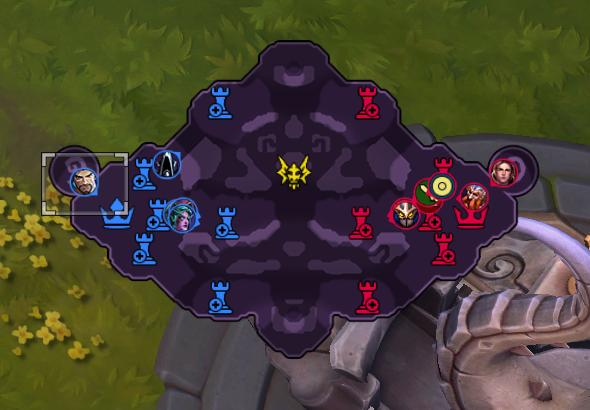blue nexus: (98, 196, 135, 228)
blue player: (165, 197, 199, 232), (152, 149, 181, 179), (69, 167, 98, 196)
blue tower: (207, 84, 233, 119), (213, 204, 239, 239), (131, 231, 157, 265), (131, 156, 157, 190), (207, 279, 232, 313), (145, 197, 170, 231), (148, 198, 167, 209), (218, 205, 236, 216)
red player: (413, 178, 441, 214), (389, 197, 420, 229), (488, 157, 519, 187), (458, 182, 488, 212)
red tower: (354, 84, 380, 120), (354, 279, 380, 314), (347, 205, 373, 239), (430, 231, 456, 265), (419, 210, 442, 231)
